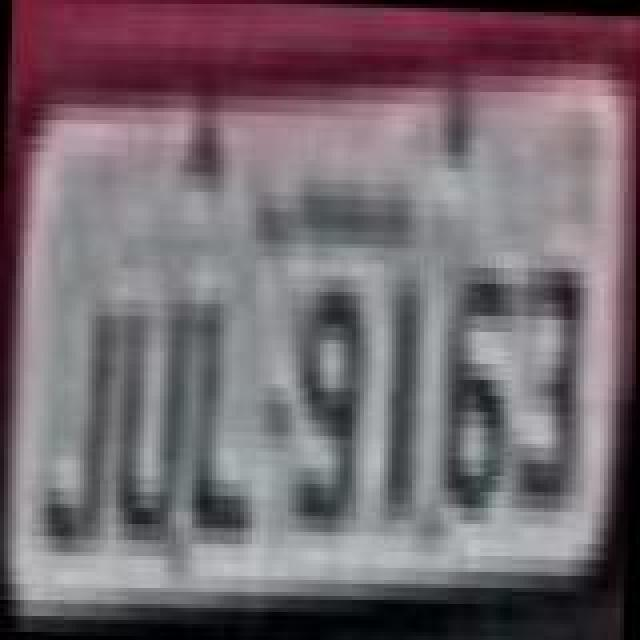1: (376, 278, 428, 518)
3: (506, 266, 586, 510)
6: (430, 262, 518, 522)
9: (288, 280, 368, 540)
J: (38, 310, 118, 554)
L: (180, 300, 268, 544)
U: (108, 304, 196, 548)
